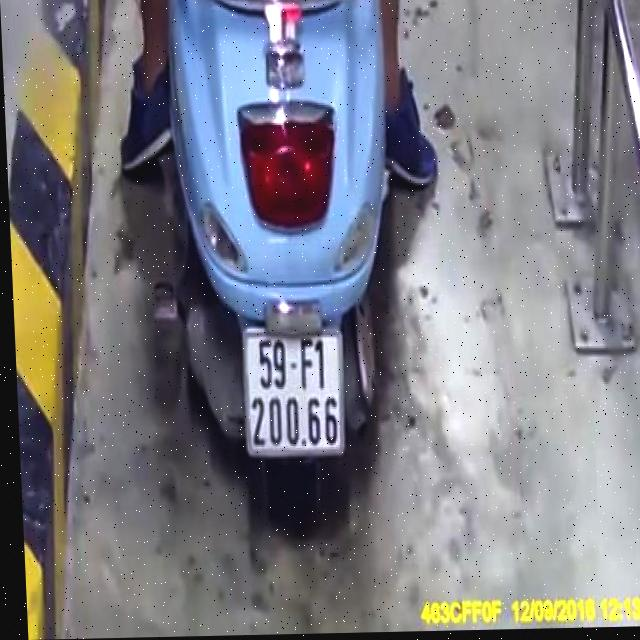motorcycle: (156, 0, 412, 536)
plate: (237, 324, 354, 465)
